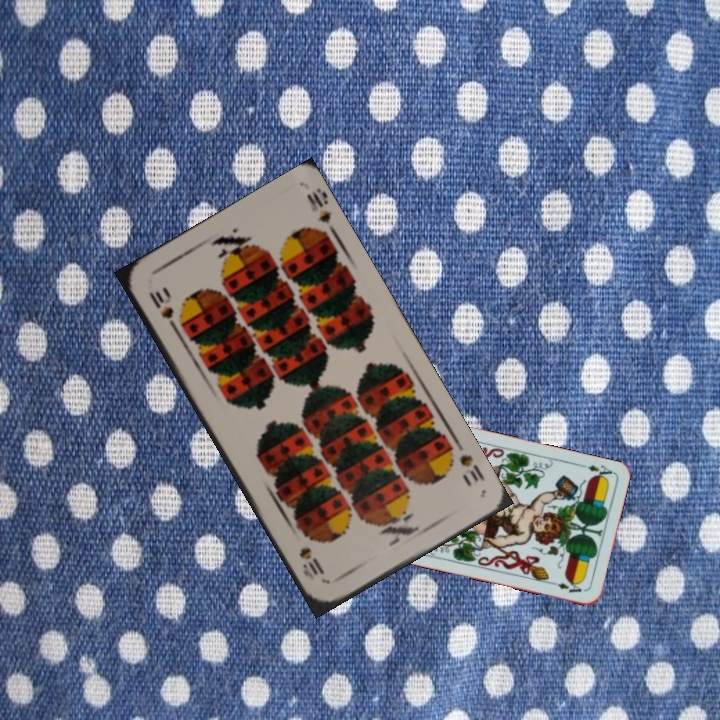EA: (575, 460, 615, 482)
S10: (144, 287, 181, 334), (455, 450, 487, 485)
